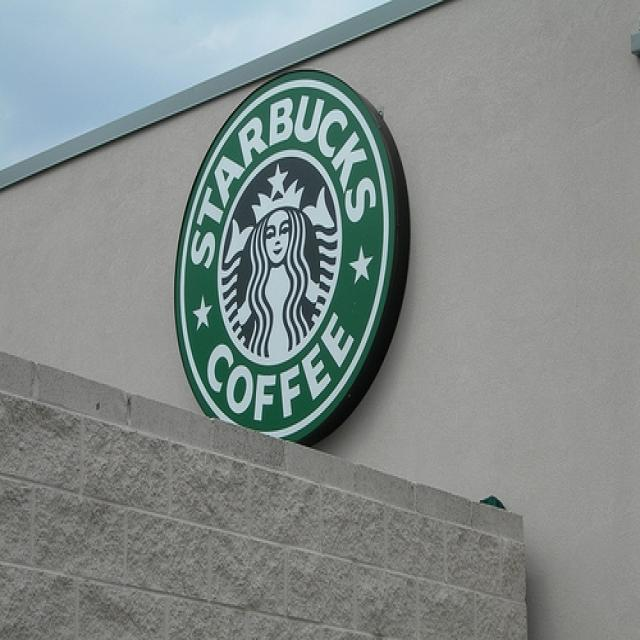starbucks: (175, 71, 394, 438)
